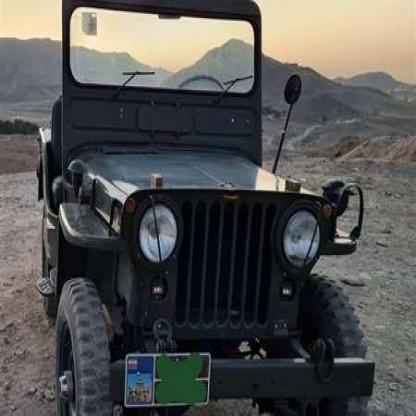Car: (41, 0, 362, 416)
